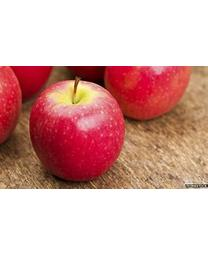apple: (28, 77, 125, 181), (103, 66, 191, 120), (0, 66, 22, 144)
